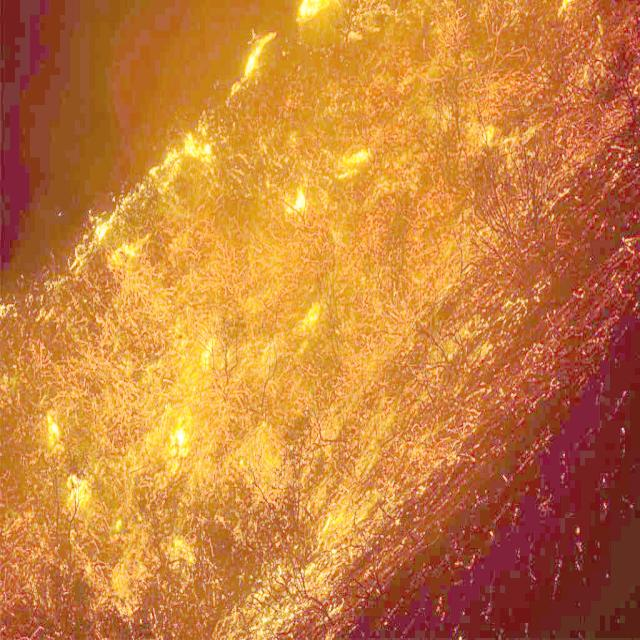api: (135, 116, 230, 194), (228, 17, 280, 98), (289, 280, 332, 344), (327, 138, 382, 188), (55, 462, 95, 520), (295, 1, 353, 36), (38, 405, 72, 459), (165, 417, 199, 468), (470, 114, 496, 145), (286, 183, 308, 218)
